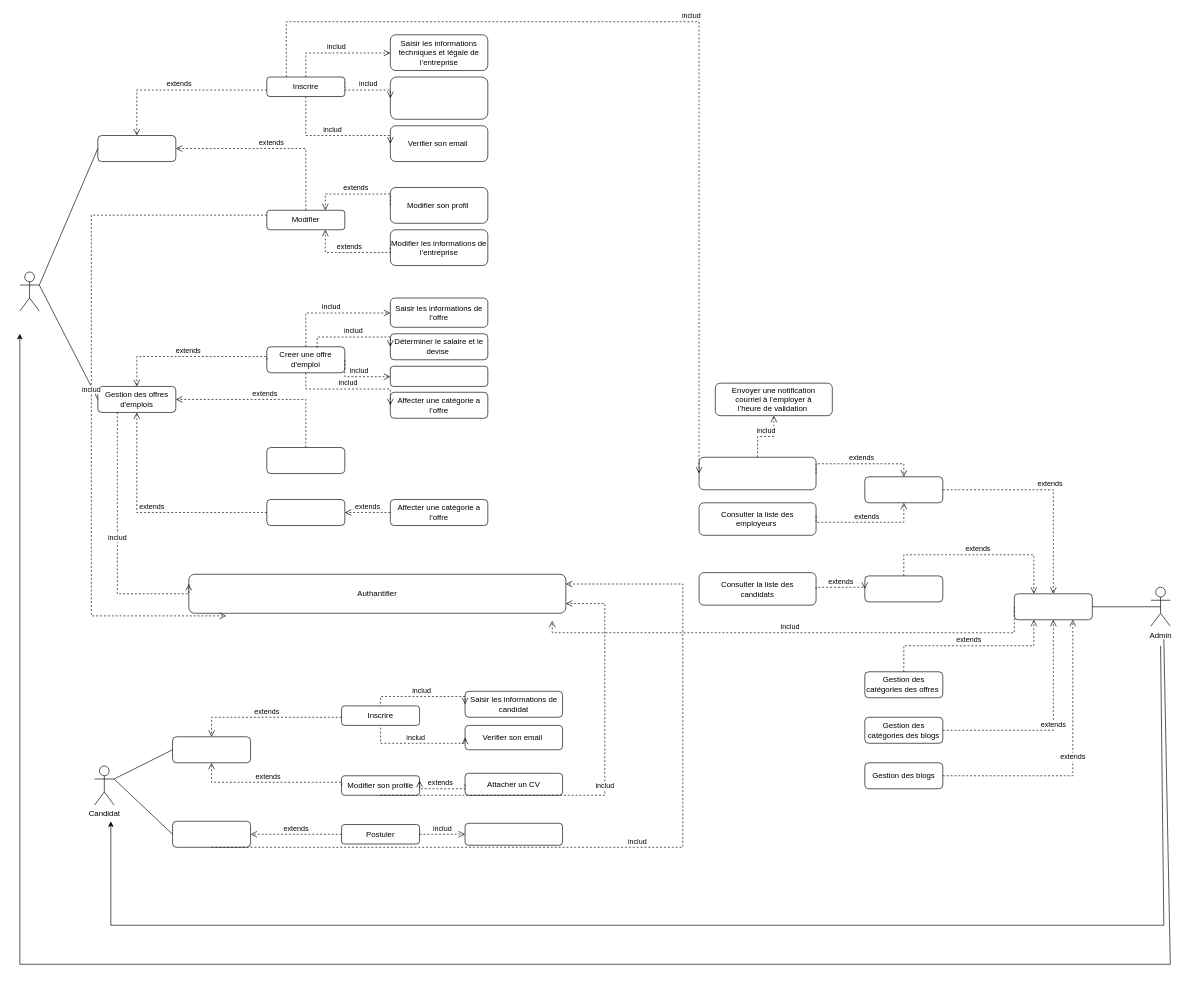
Image size: 1187x981. Some labels were removed from this diagram. Here are the shapes that lost their labels. From the top down, the centre of each, then its label:
At pixel 439 97: "Saisir les informations professionnelles de l’employer".
At pixel 136 148: "Gestion de compte employeur".
At pixel 29 291: "Employeur".
At pixel 439 376: "Déterminer le type de poste".
At pixel 305 460: "Modifier / Supprimer une offre".
At pixel 757 473: "Valider L’entreprise et vérifier les cordonnées de l’employer".
At pixel 903 489: "Gestion des employeur".
At pixel 305 512: "Consulter les candidatures".
At pixel 903 588: "Gestion des candidats".
At pixel 1053 606: "Gestion de l'application".
At pixel 211 749: "Gestion de compte candidat".
At pixel 211 834: "Consulter les offres d'emplois".
At pixel 513 834: "Saisir une lettre de motivation".
